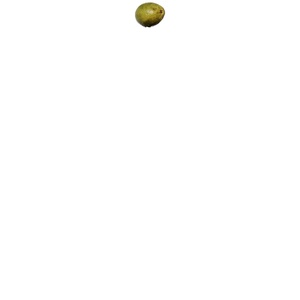goiaba: (133, 1, 168, 31)
